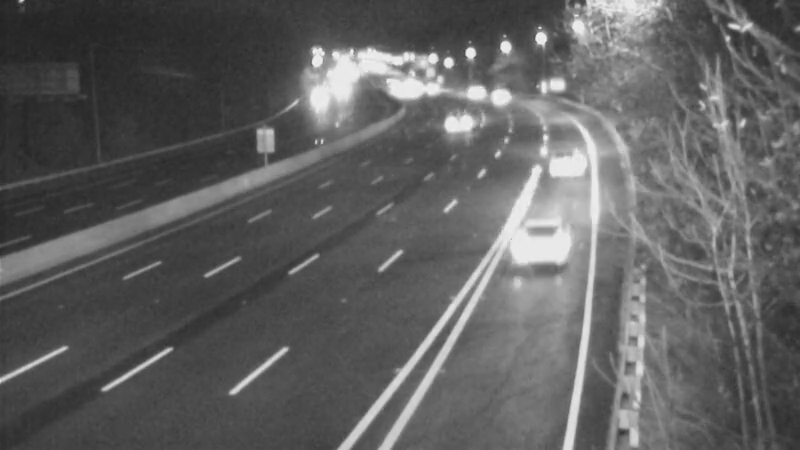vehicle: (529, 127, 609, 207), (503, 205, 583, 285), (448, 62, 498, 112), (473, 72, 523, 122), (433, 96, 483, 146), (295, 70, 345, 120)
